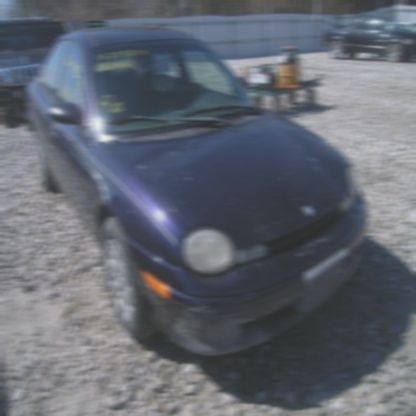Vehicle: (26, 18, 370, 350)
